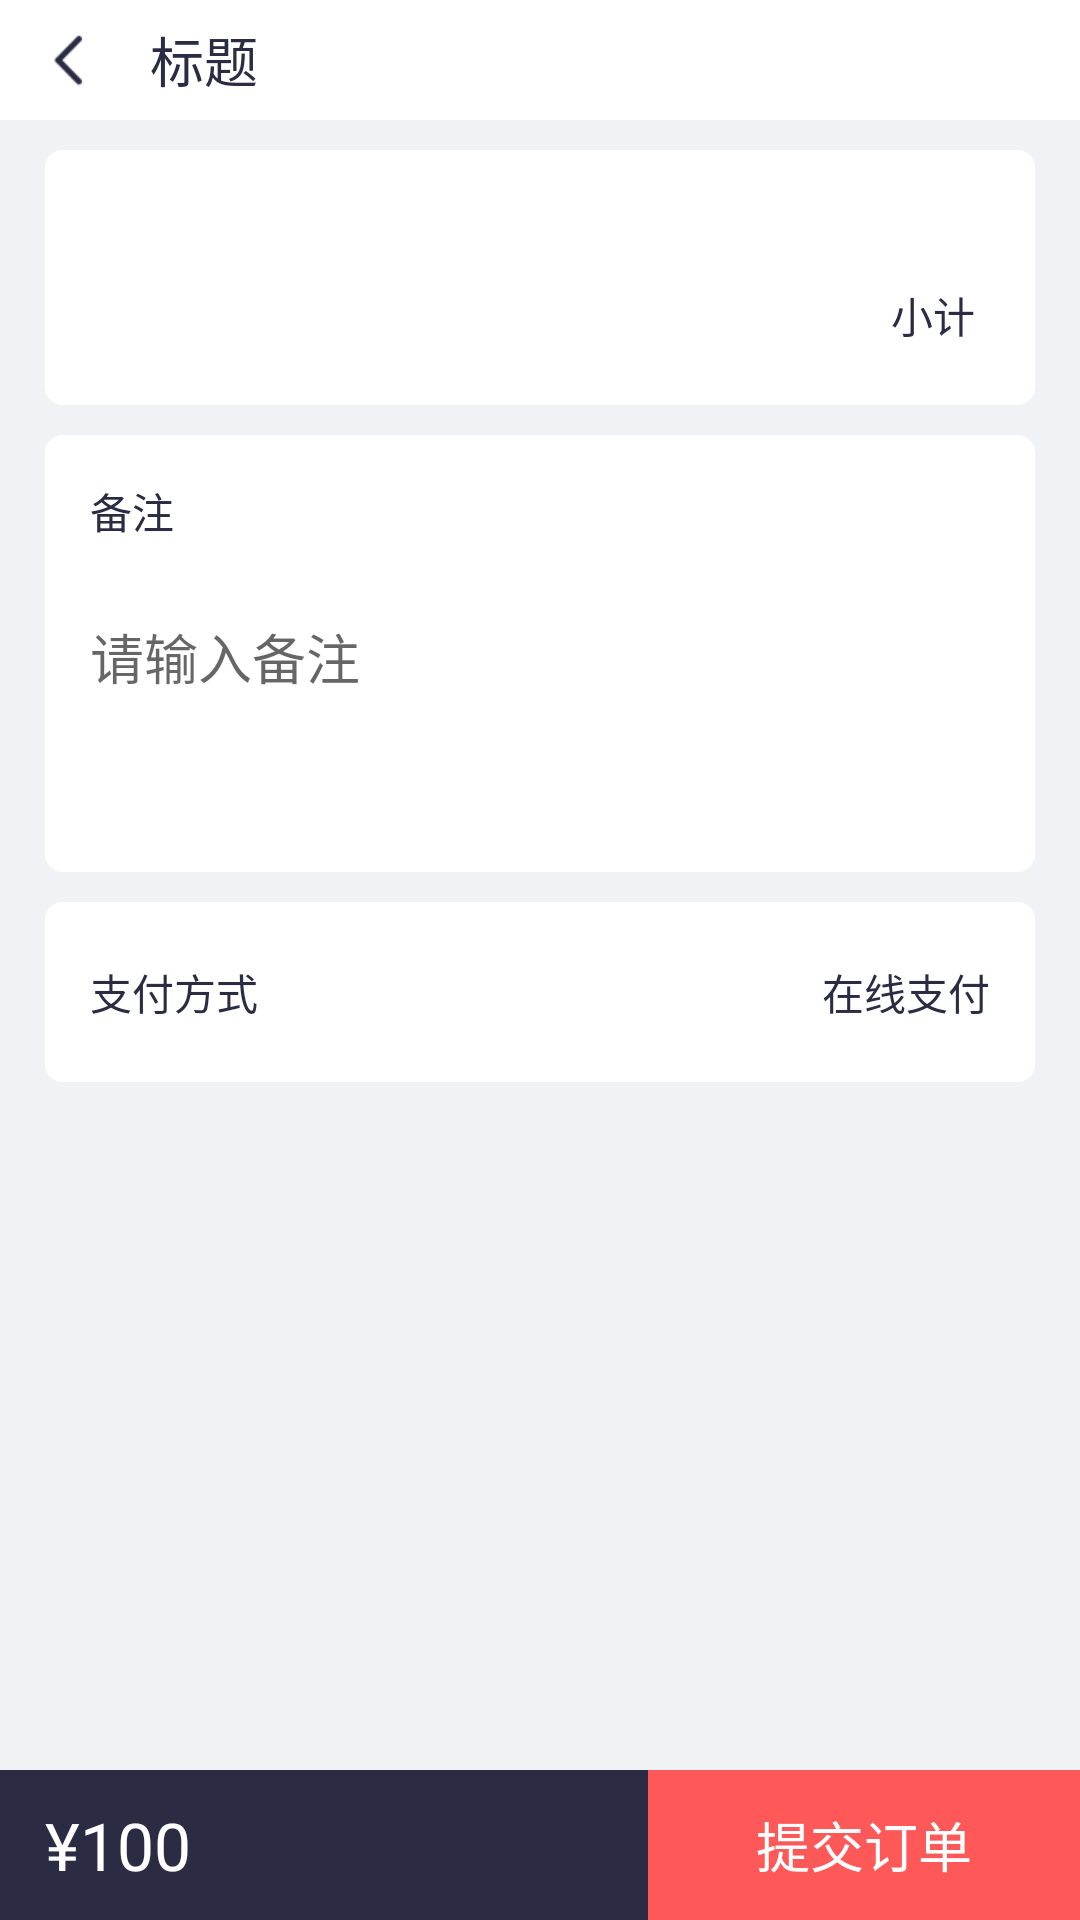

Icons on this 1080px x 1920px Android screen, each with the point to tap as point (x, y):
return: point (68, 60)
